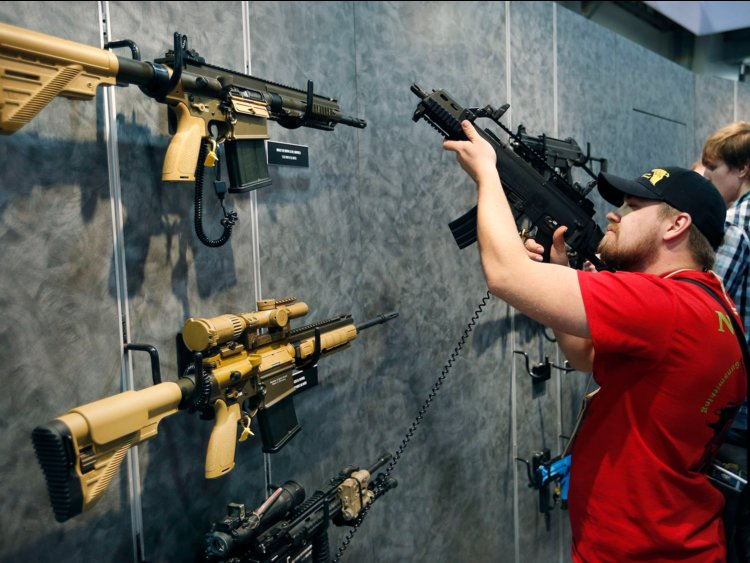Gun: (176, 295, 397, 423), (155, 38, 371, 166), (424, 81, 591, 239)
